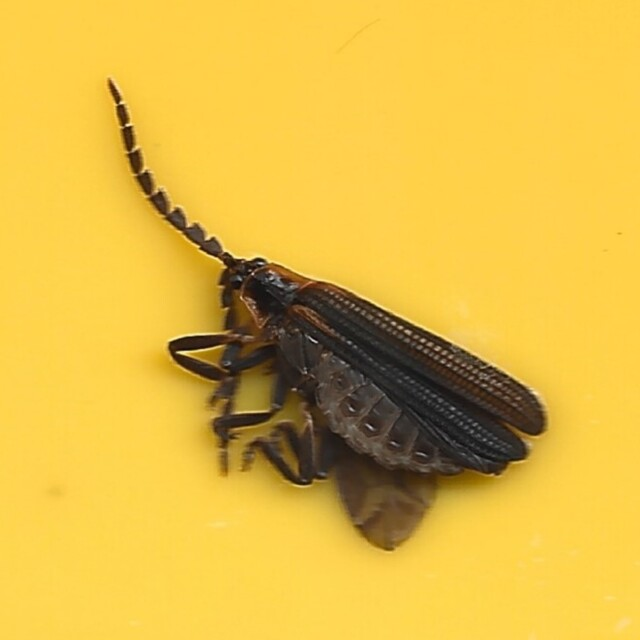Coleoptera: (97, 85, 543, 555)
